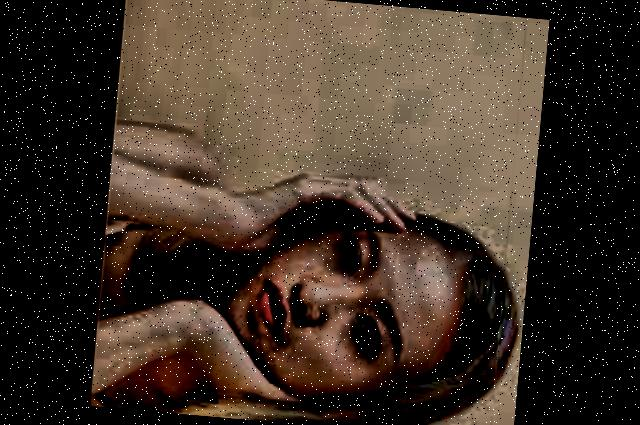neutral: (194, 194, 501, 425)
